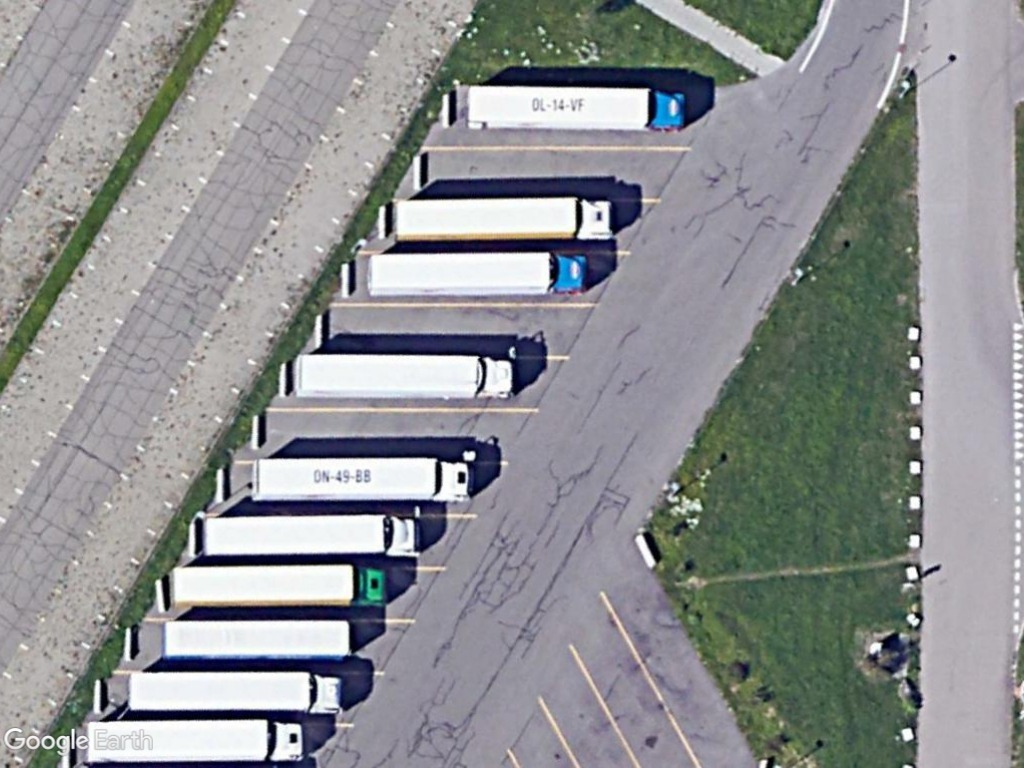longvehicle: (388, 193, 619, 248), (243, 454, 482, 504), (461, 81, 689, 133), (359, 249, 590, 300), (121, 666, 345, 718), (288, 351, 515, 402), (199, 512, 426, 563), (82, 718, 308, 768), (164, 561, 391, 610), (157, 616, 357, 663)
